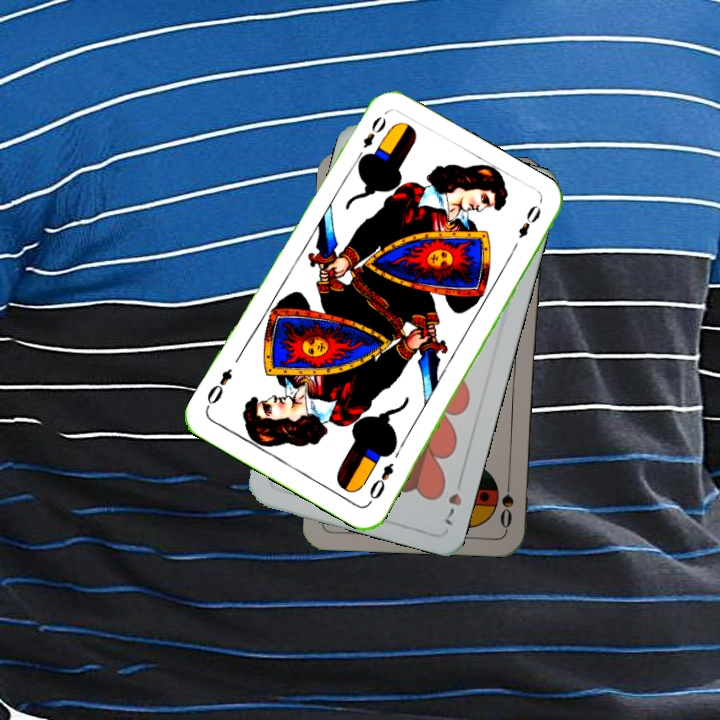EO: (351, 112, 389, 165), (364, 458, 396, 507)
H7: (440, 472, 466, 528)
SO: (496, 472, 516, 531)
